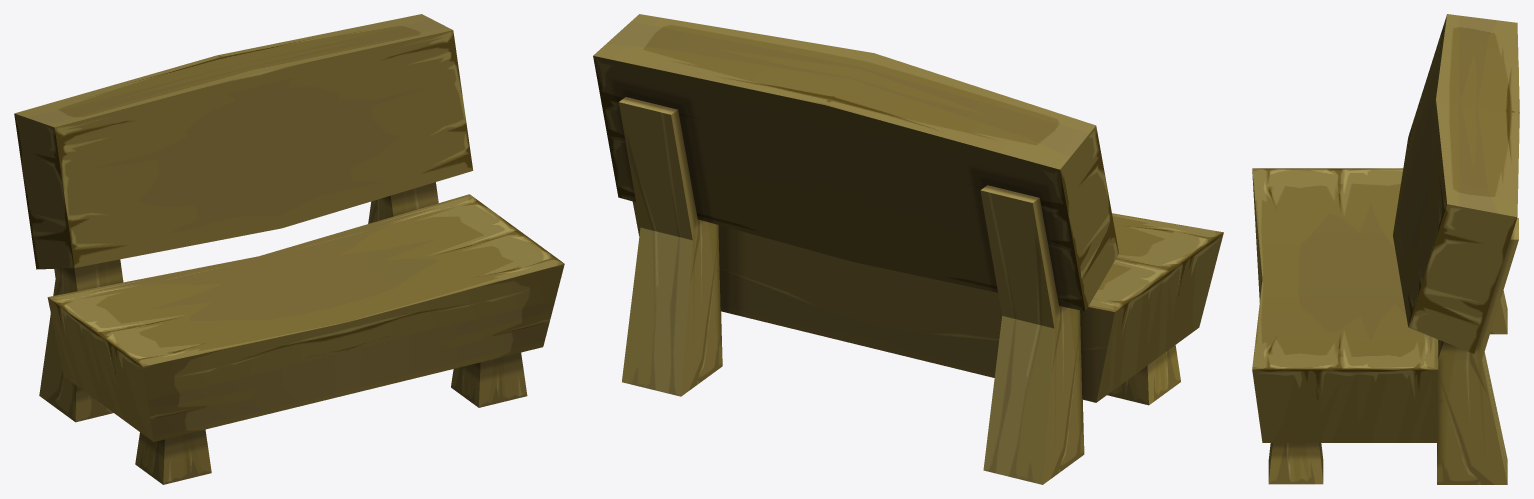
File: bench_001.FBX
3 renders of one model, left to right at view 1: azimuth 30°, elevation 25°; view 2: azimuth 150°, elevation 25°; view 3: azimuth 270°, elevation 25°, orthographic. The views are drawn at different scales.
Visible parts, largest first — view 1: bench_001; view 2: bench_001; view 3: bench_001.
Boxes of the visible parts, x1=… form: bench_001: x1=14, y1=14, x2=564, y2=484; bench_001: x1=593, y1=14, x2=1223, y2=484; bench_001: x1=1252, y1=14, x2=1519, y2=484.
Size of the model in its own units: 3.94 by 2.72 by 2.21.
